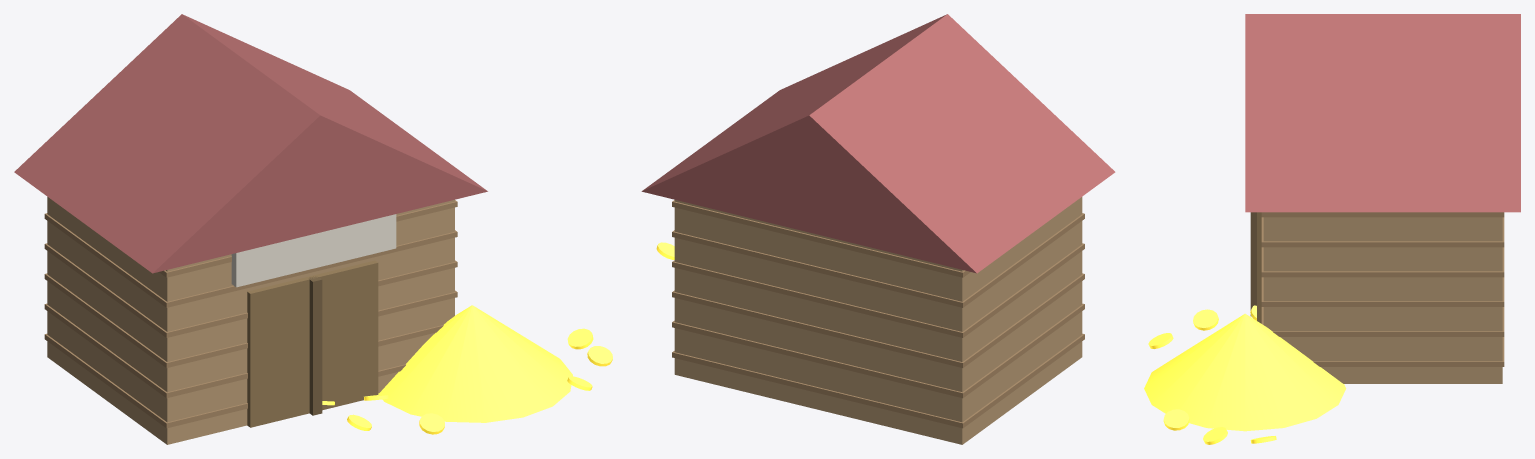
Rendered from gudang.glb.
The picture shows the model from 3 angles, left to right: view 1: azimuth 30°, elevation 25°; view 2: azimuth 150°, elevation 25°; view 3: azimuth 270°, elevation 25°; orthographic projection.
Parts seen in each view (by area): view 1: gudang; view 2: gudang; view 3: gudang.
Part boxes in pixels (x1,y1,x2,y2): gudang: (14,14,612,444); gudang: (641,14,1115,444); gudang: (1144,14,1520,444).
Size of the model in its own units: 2.8 by 1.82 by 2.05.
